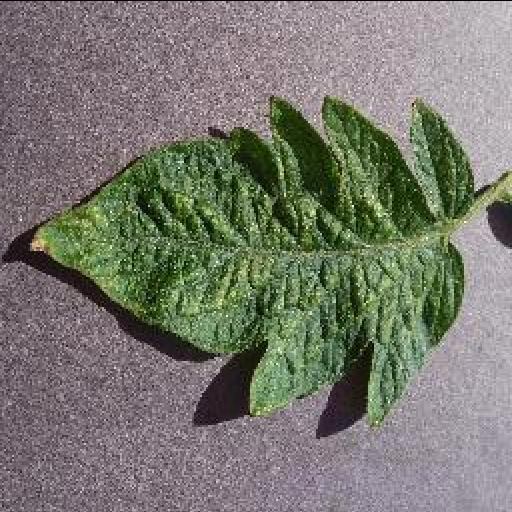disease_tomato: (23, 94, 473, 424)
